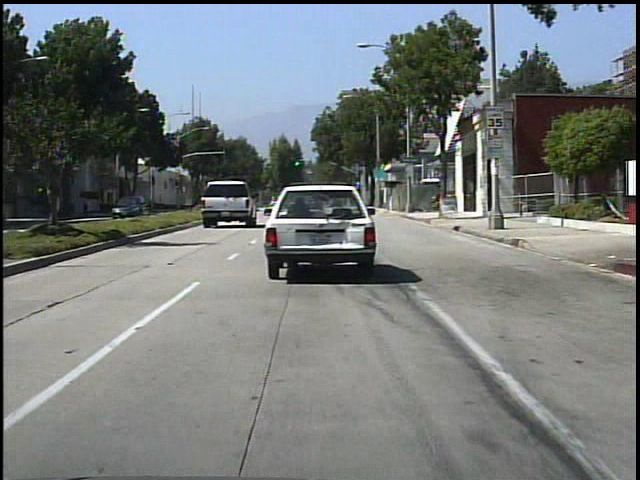person: (130, 193, 146, 216), (81, 196, 94, 219)
